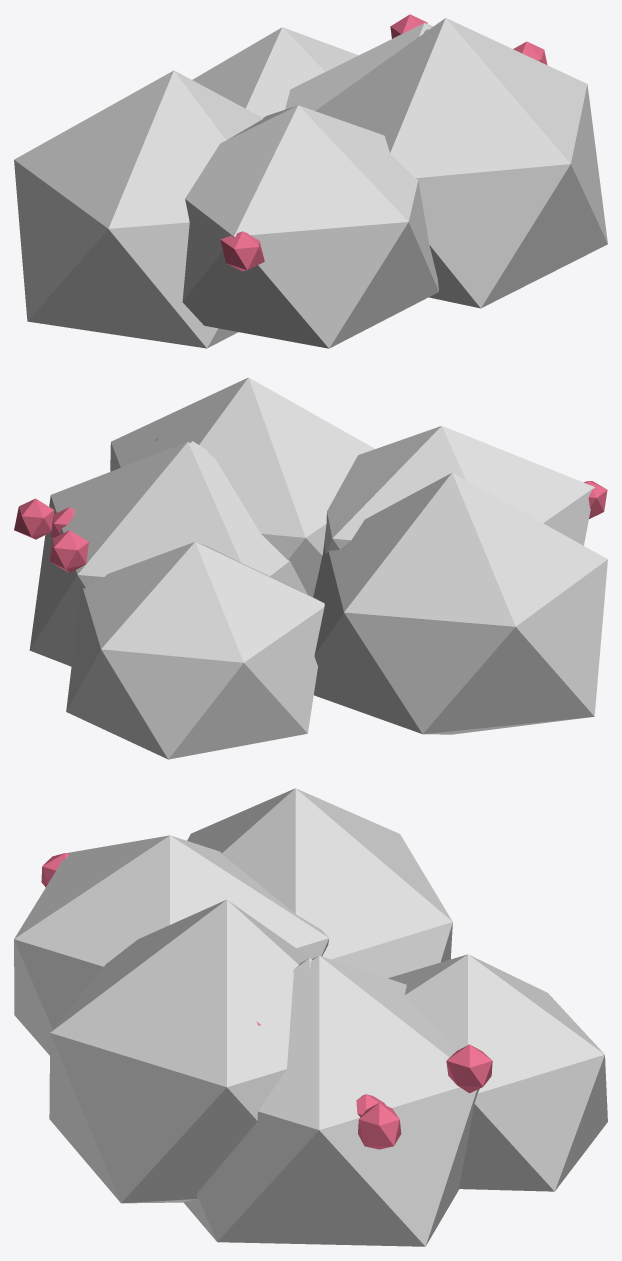
Rendered from bush_flower_1.glb.
3 views of the same model, one above another, from view 1: azimuth 30°, elevation 25°; view 2: azimuth 150°, elevation 25°; view 3: azimuth 270°, elevation 25° (orthographic). The views are drawn at different scales.
Visible parts, largest first — view 1: bush_flower_1; view 2: bush_flower_1; view 3: bush_flower_1.
Part boxes in pixels (bbox=[...]): bush_flower_1: bbox=[14, 14, 607, 348]; bush_flower_1: bbox=[14, 377, 607, 759]; bush_flower_1: bbox=[14, 788, 607, 1246].
Size of the model in its own units: 1.9 by 0.9657 by 1.6.
